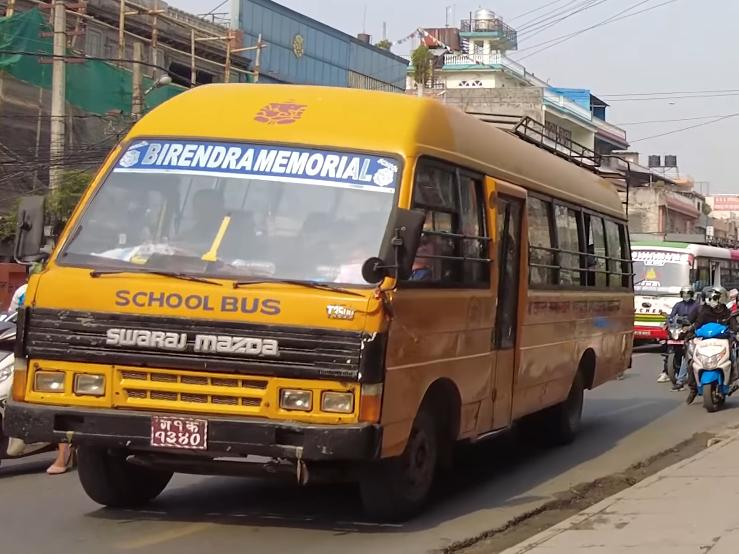bike: (655, 310, 695, 385)
bus: (626, 231, 739, 342)
school_bus: (0, 74, 638, 511)
scooter: (694, 321, 739, 415)
